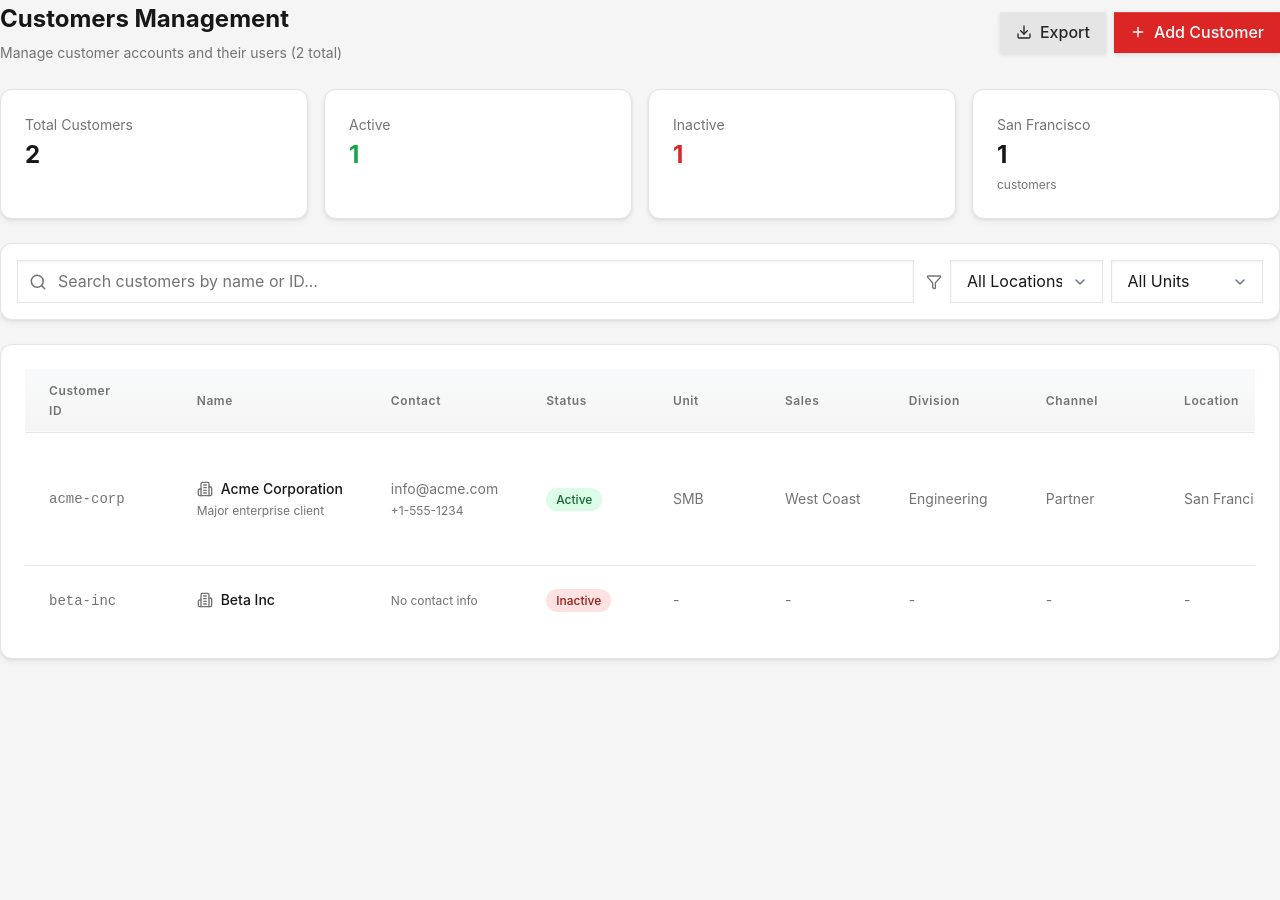
Test: CustomersManagement › handles create failure
Expected: the text "Acme Corporation" is shown, [197,478,343,501]
Click the button "Add Customer" at {"x": 1197, "y": 32}, box [1114,12,1279,53]
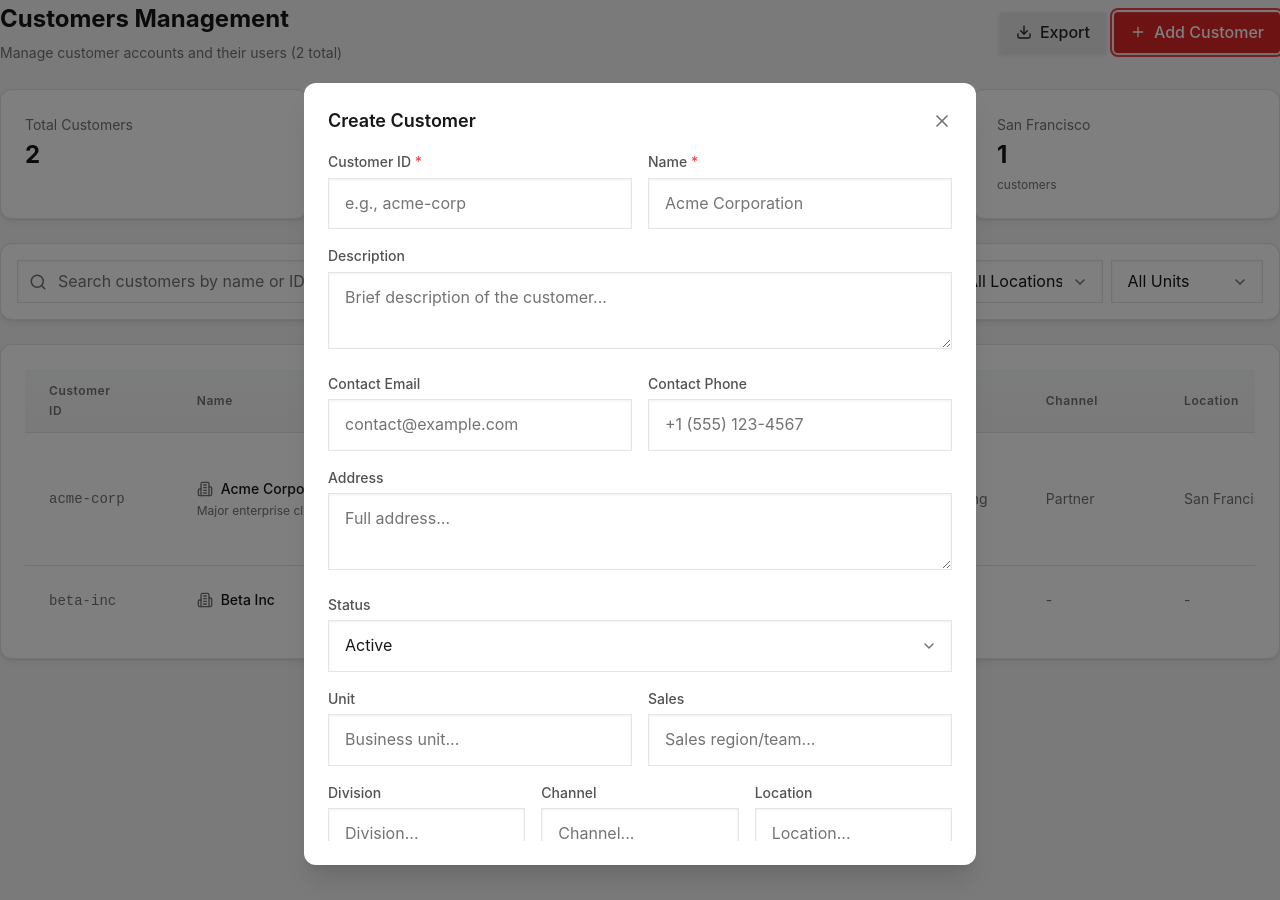
Submit the form, box [328,151,952,841]
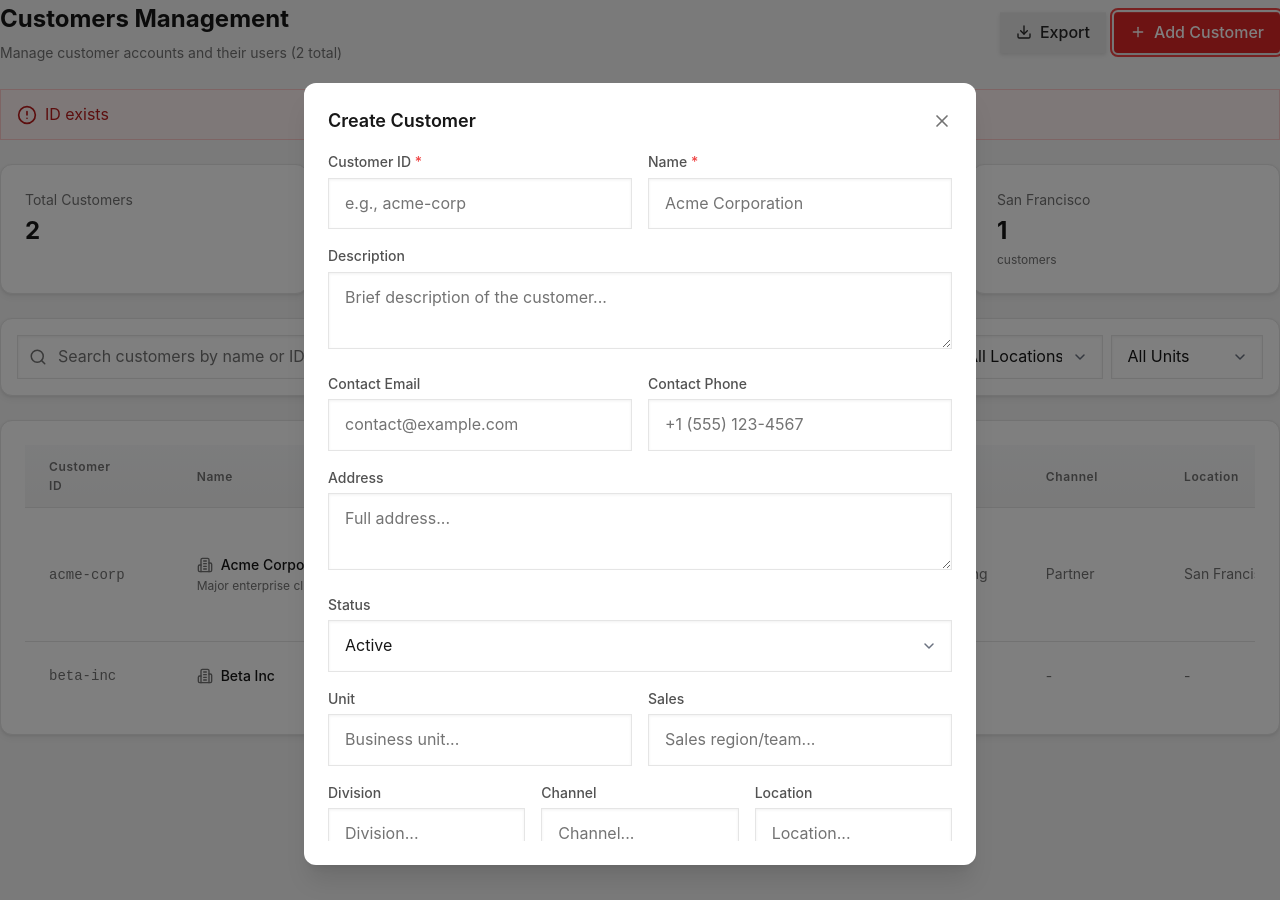
Now the text "ID exists" is shown, box [0,89,1279,140]
